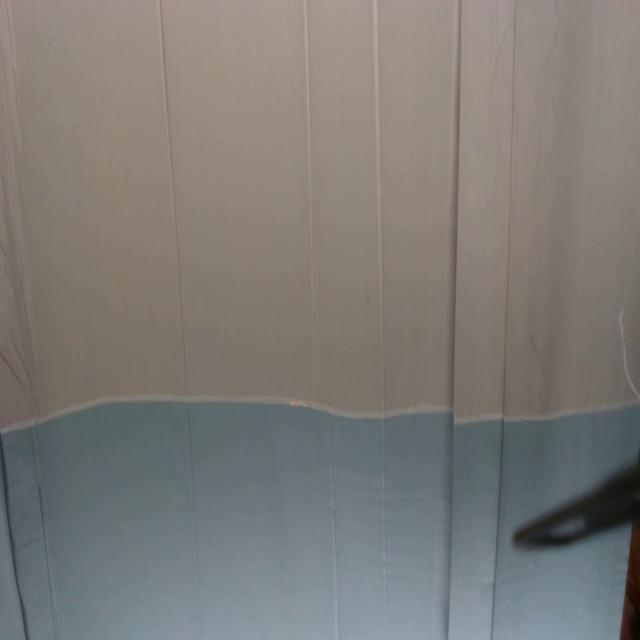crease: (158, 0, 202, 640), (487, 1, 517, 639), (370, 0, 391, 639), (445, 1, 463, 640), (302, 0, 318, 405), (0, 431, 27, 640), (36, 476, 60, 636), (328, 415, 341, 640), (17, 270, 39, 376), (5, 0, 22, 126), (0, 347, 23, 395)
